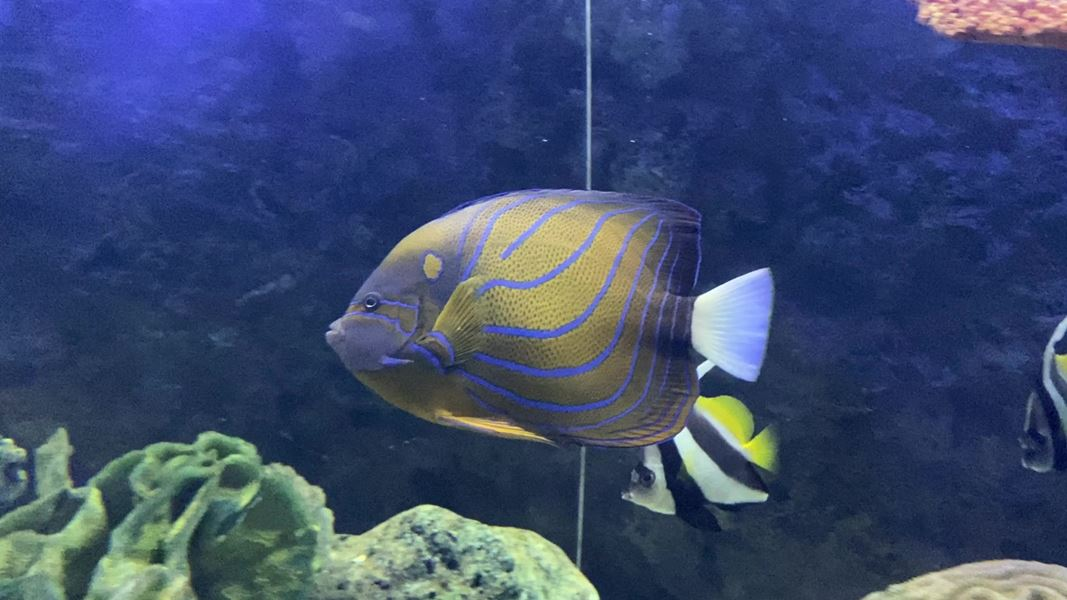Blue ring angelfish: (306, 168, 784, 458)
